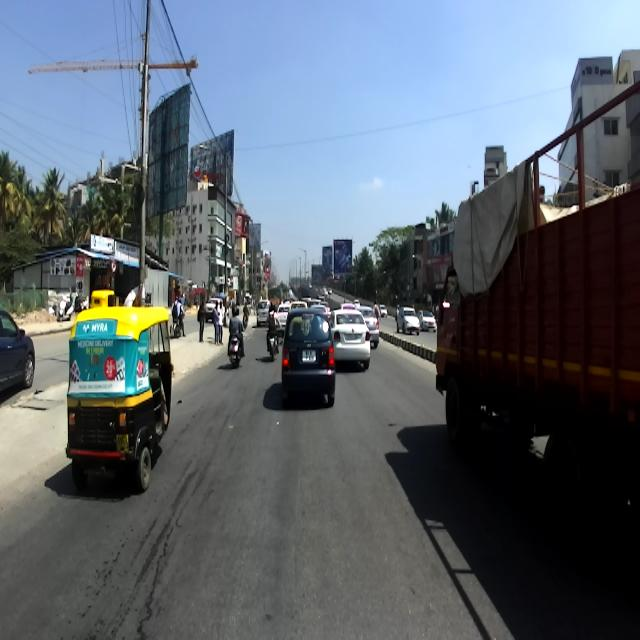auto ahead at: (64, 287, 178, 499)
car ahead at: (284, 301, 339, 404)
truck ahead at: (441, 79, 640, 544)
